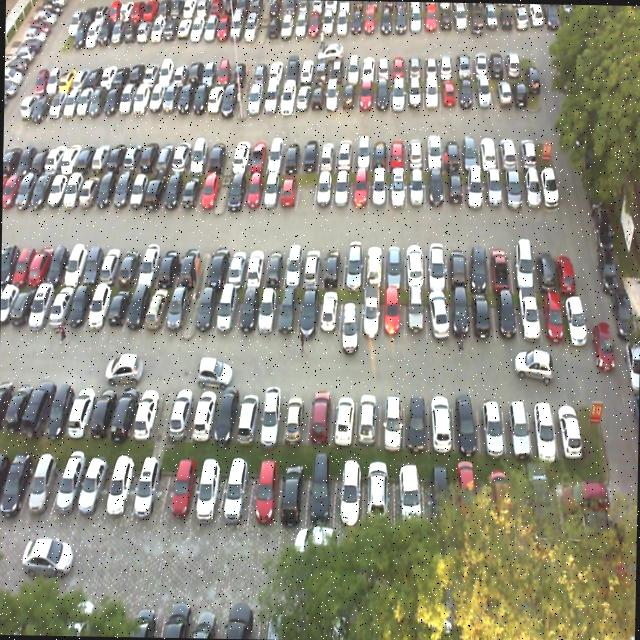empty: (74, 462, 116, 523), (105, 459, 143, 524), (49, 462, 88, 522), (131, 462, 168, 522), (22, 461, 59, 519), (218, 471, 254, 528), (551, 392, 585, 452), (160, 464, 197, 518), (502, 394, 533, 456), (304, 472, 336, 532), (212, 386, 245, 444), (248, 469, 282, 525), (44, 380, 75, 437), (478, 392, 507, 452), (0, 461, 34, 512), (212, 282, 241, 340), (452, 394, 482, 450), (528, 392, 556, 452), (102, 280, 133, 334), (64, 384, 95, 438), (88, 384, 119, 438), (428, 395, 457, 452), (279, 471, 308, 528), (122, 276, 150, 334), (259, 390, 288, 445), (237, 388, 266, 442), (111, 384, 140, 437), (306, 389, 332, 448), (132, 389, 162, 440), (140, 283, 168, 337), (537, 286, 566, 338), (355, 390, 381, 448), (254, 281, 280, 338), (190, 386, 218, 438), (404, 394, 430, 449), (85, 278, 111, 332), (162, 282, 188, 336), (330, 391, 356, 444), (232, 286, 258, 338), (491, 288, 518, 338), (283, 390, 308, 444), (380, 390, 404, 446), (489, 240, 515, 290), (168, 388, 195, 436), (446, 238, 471, 288), (116, 242, 145, 284), (99, 244, 128, 285), (195, 284, 216, 340), (298, 288, 321, 339), (135, 244, 162, 287), (512, 241, 536, 289), (471, 290, 494, 340), (534, 244, 560, 288), (446, 292, 472, 336), (156, 246, 184, 286), (515, 292, 539, 338), (178, 168, 203, 212), (427, 240, 449, 290), (276, 288, 298, 338), (178, 246, 204, 288), (144, 168, 168, 213), (162, 168, 185, 214), (318, 290, 340, 338), (361, 290, 383, 338), (404, 288, 426, 336), (427, 291, 449, 339), (520, 165, 545, 207), (282, 243, 306, 286), (382, 243, 406, 286), (406, 237, 427, 286), (224, 168, 247, 212), (469, 242, 491, 288), (128, 168, 152, 210), (221, 246, 245, 288), (197, 171, 220, 213), (342, 242, 363, 288), (383, 290, 403, 338), (304, 243, 326, 286), (321, 244, 343, 286), (245, 244, 268, 284), (204, 248, 228, 286), (342, 288, 361, 336), (263, 246, 286, 284), (296, 171, 316, 213), (368, 168, 388, 210), (485, 166, 505, 208), (363, 246, 384, 286), (464, 170, 486, 208), (502, 170, 524, 207), (244, 170, 263, 212), (278, 170, 297, 212), (262, 171, 280, 214), (331, 172, 350, 211), (406, 170, 426, 207), (390, 169, 408, 210), (426, 170, 445, 208), (314, 172, 332, 210), (445, 170, 464, 206), (351, 170, 369, 206)
occupied: (190, 468, 227, 522)
